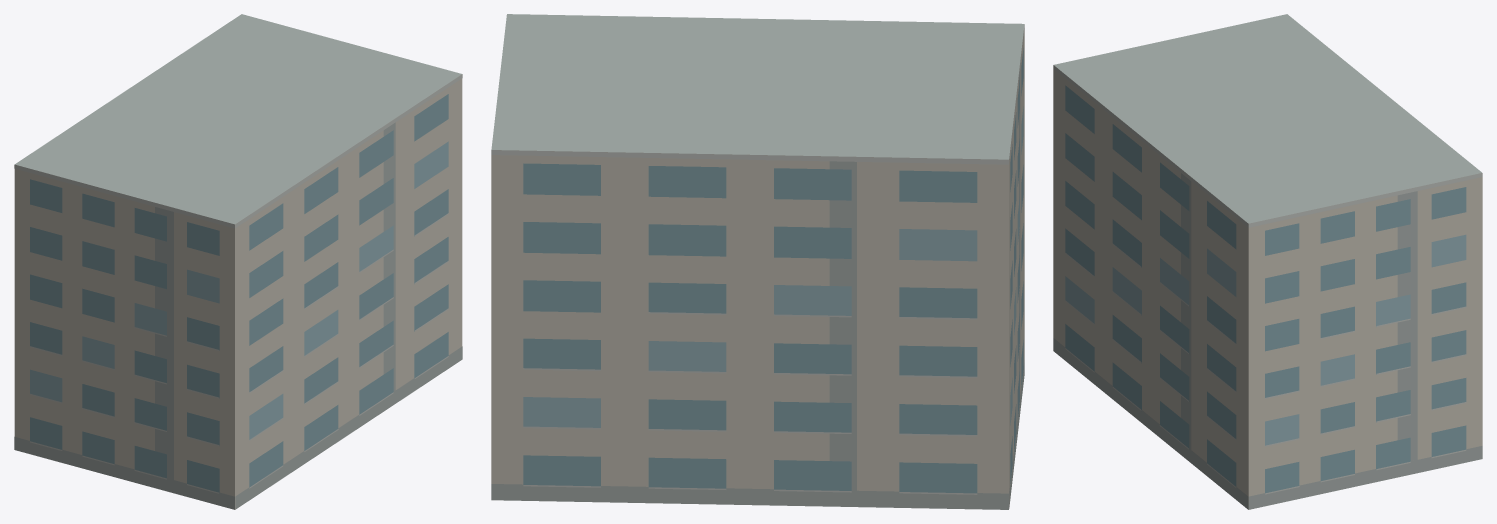
Rendered from survey-upis-32839245.glb.
3 renders of one model, left to right at view 1: azimuth 30°, elevation 25°; view 2: azimuth 150°, elevation 25°; view 3: azimuth 270°, elevation 25°, orthographic. The views are drawn at different scales.
Visible parts, largest first — view 1: survey-upis-32839245.tmp; view 2: survey-upis-32839245.tmp; view 3: survey-upis-32839245.tmp.
Part boxes in pixels (x1=…): survey-upis-32839245.tmp: x1=14, y1=14, x2=462, y2=509; survey-upis-32839245.tmp: x1=491, y1=14, x2=1024, y2=509; survey-upis-32839245.tmp: x1=1053, y1=14, x2=1482, y2=509.
Bounding box in the file's own units: 26.56 × 16.9 × 22.97.
